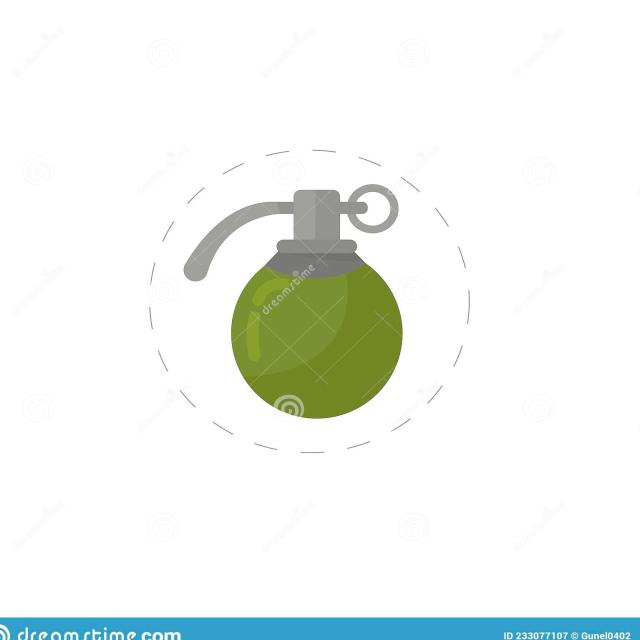grenade: (185, 183, 404, 420)
